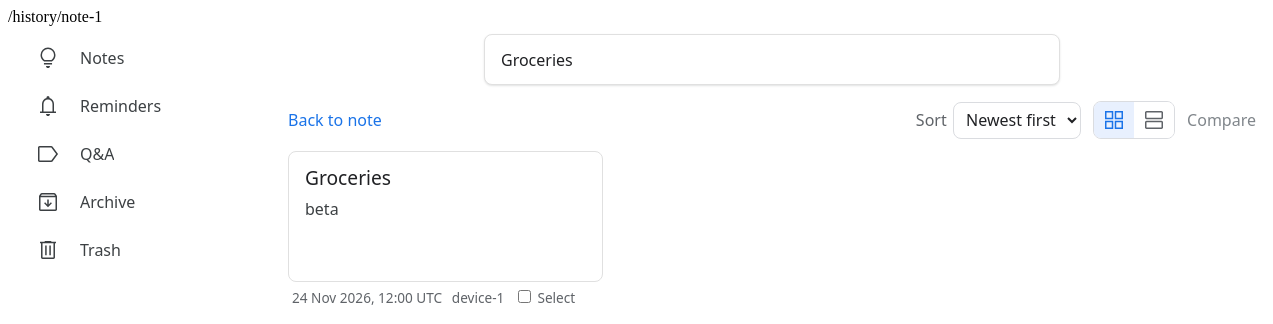
Test: view routes › side list on history opens the board path
The width and height of the screenshot is (1273, 324).
Click the button "Q&A" at [144, 154], box [24,130,264,178]
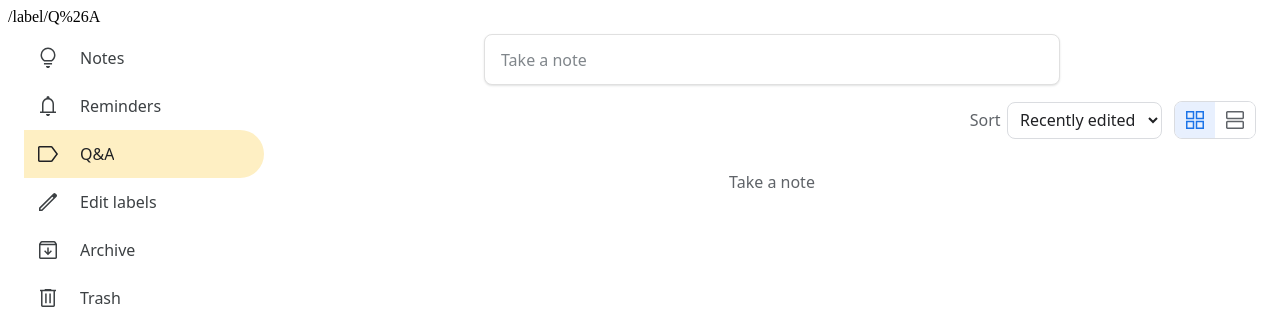
Expected: the text with test id "path" reads "/label/Q%26A", [8,8,100,25]
Expected: the text "history" is gone
